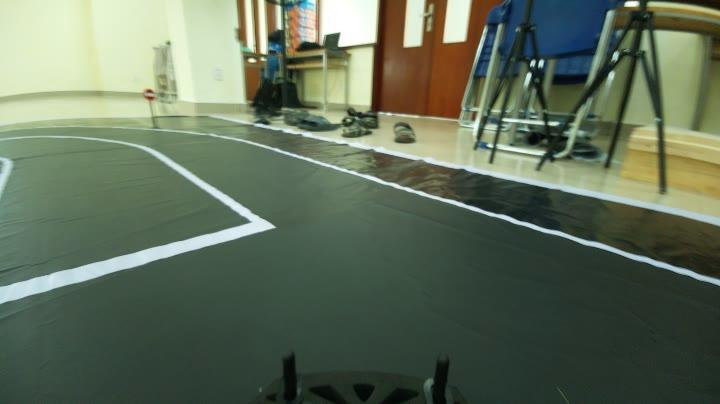no_entry: (140, 89, 159, 104)
